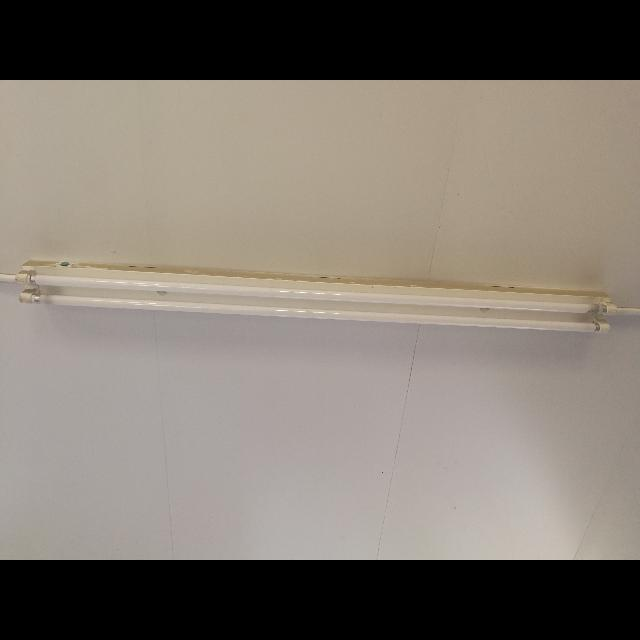Straight-Tube-Fluorescent-Lamp: (4, 247, 634, 346)
